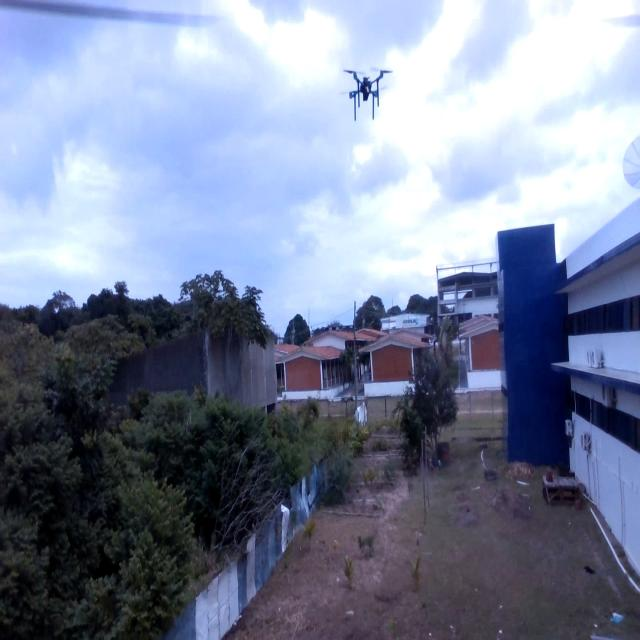-uav-: (340, 51, 394, 128)
